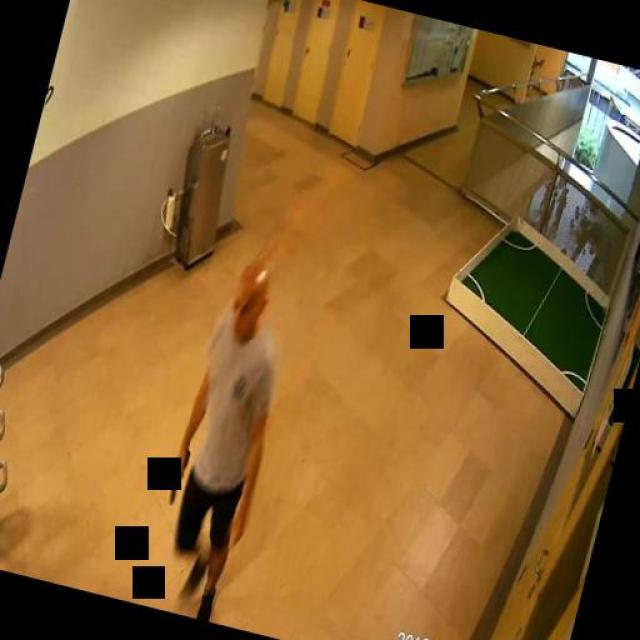gun: (166, 445, 192, 504)
